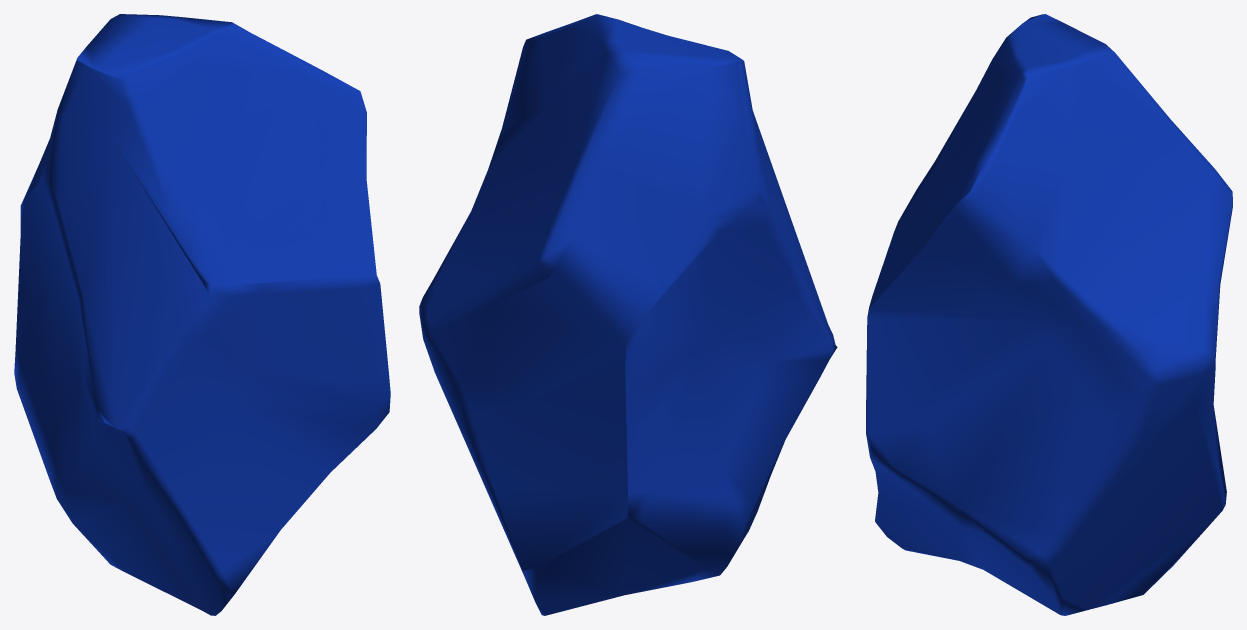
The model's file is Alchemy Crystal 5.fbx.
3 renders of one model, left to right at view 1: azimuth 30°, elevation 25°; view 2: azimuth 150°, elevation 25°; view 3: azimuth 270°, elevation 25°, orthographic. The views are drawn at different scales.
Visible parts, largest first — view 1: Alchemy_Crystal_5; view 2: Alchemy_Crystal_5; view 3: Alchemy_Crystal_5.
Part boxes in pixels (x1,y1,x2,y2): Alchemy_Crystal_5: (14,14,390,615); Alchemy_Crystal_5: (419,14,837,615); Alchemy_Crystal_5: (866,14,1232,615).
Bounding box in the file's own units: 4.39 × 7.63 × 4.87.
1 material, 1 textured.
